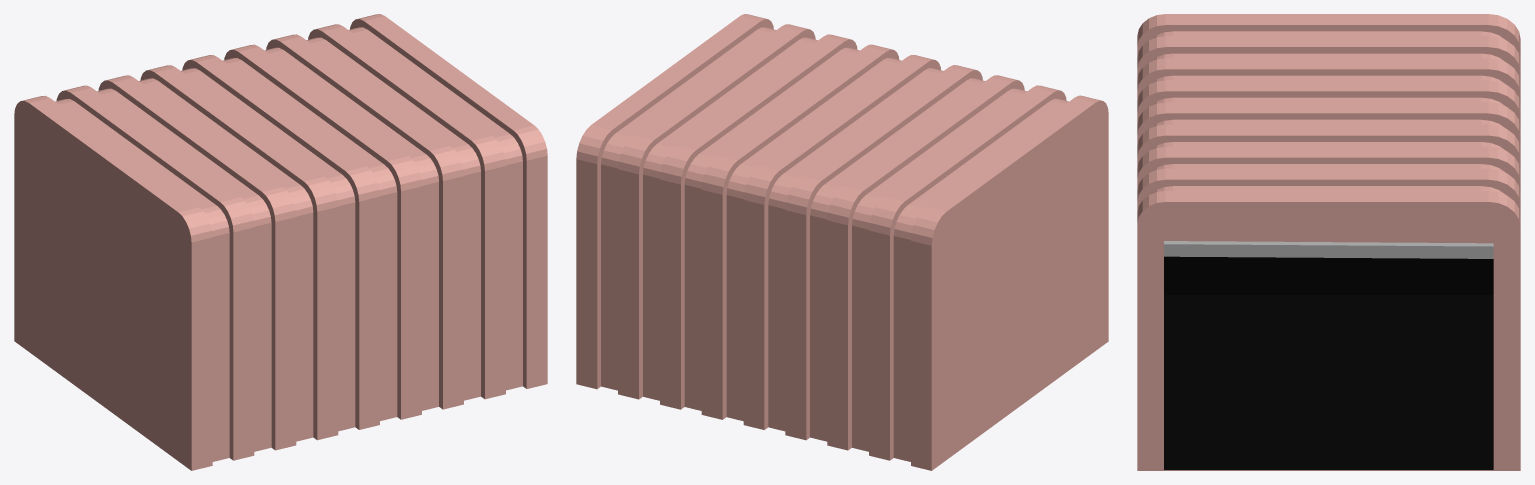
File: Garage.fbx
3 views of the same model, side by side, from view 1: azimuth 30°, elevation 25°; view 2: azimuth 150°, elevation 25°; view 3: azimuth 270°, elevation 25° (orthographic). The views are drawn at different scales.
Visible parts, largest first — view 1: Cube; view 2: Cube; view 3: Cube.
Part boxes in pixels (x1,y1,x2,y2): Cube: (14,14,547,470); Cube: (576,14,1108,470); Cube: (1137,14,1520,470).
Bounding box in the file's own units: 1401 × 920 × 1188.
